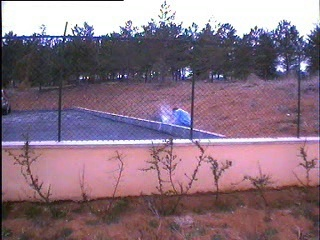smoke: (158, 101, 174, 126)
